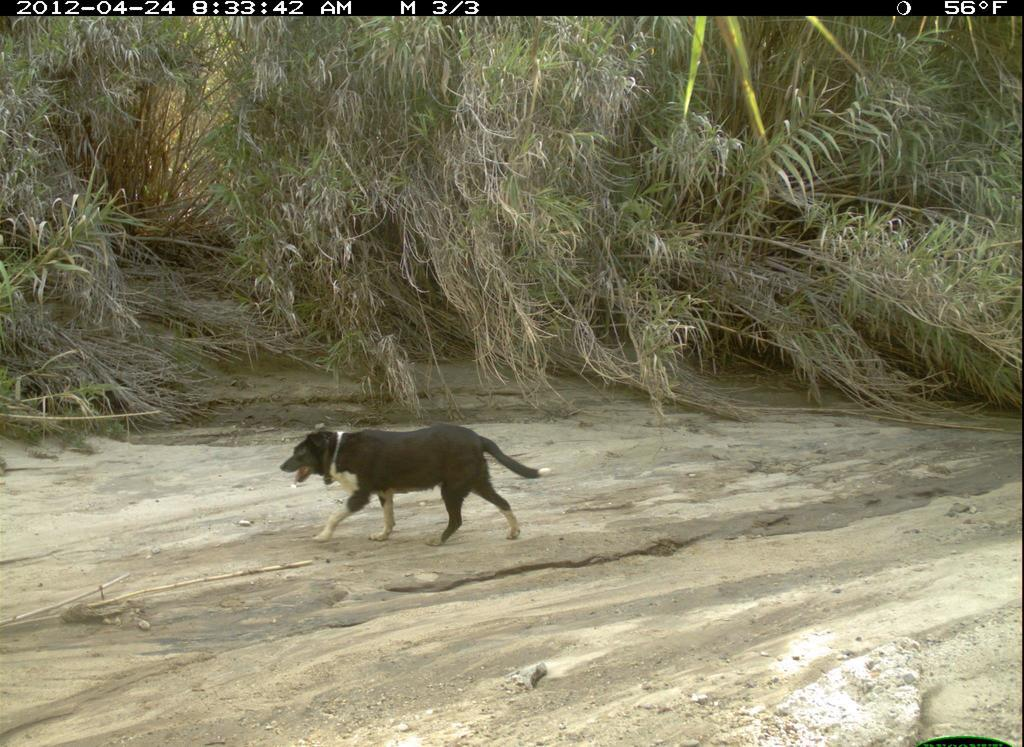dog: (273, 417, 559, 557)
